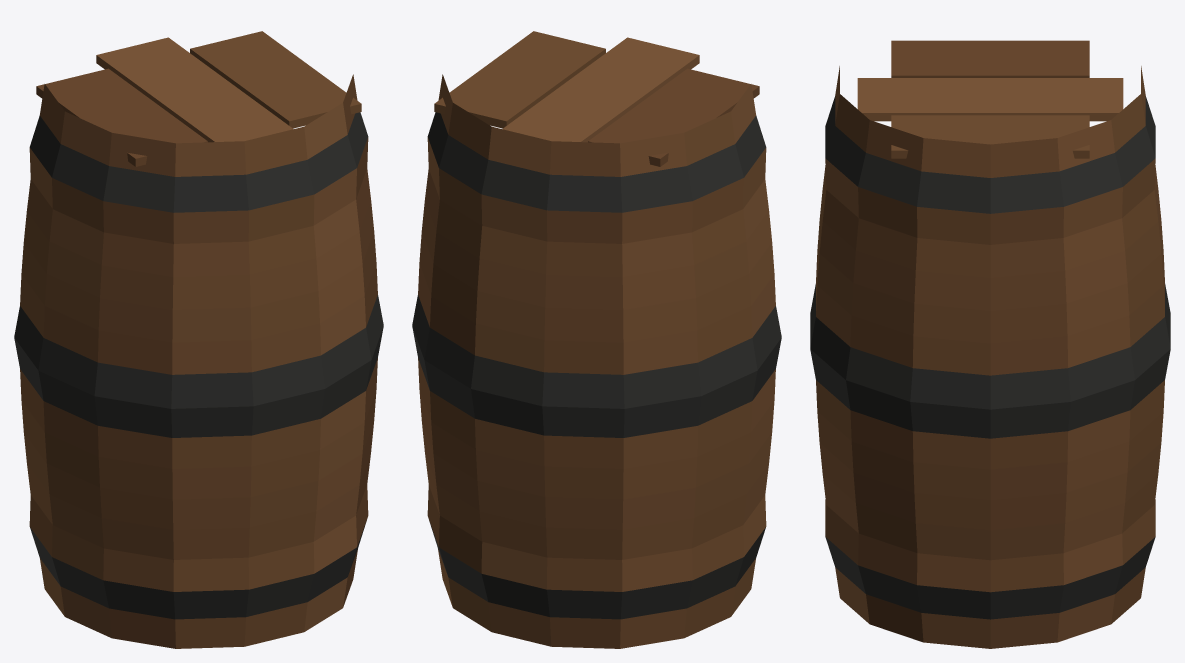
Rendered from barrel.glb.
3 renders of one model, left to right at view 1: azimuth 30°, elevation 25°; view 2: azimuth 150°, elevation 25°; view 3: azimuth 270°, elevation 25°, orthographic.
Parts seen in each view (by area): view 1: barrel; view 2: barrel; view 3: barrel.
Boxes of the visible parts, x1,y1,x2,y2 form: barrel: [14, 31, 383, 648]; barrel: [412, 31, 781, 648]; barrel: [810, 40, 1170, 648].
Bounding box in the file's own units: 0.412 × 0.62 × 0.4017.
